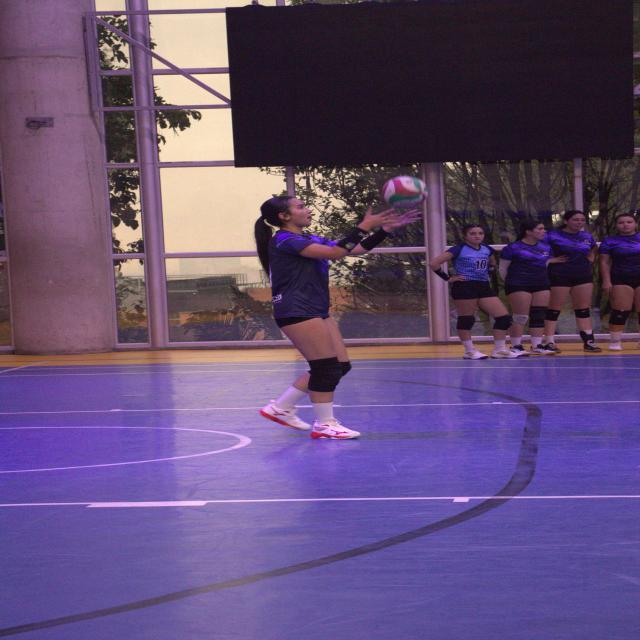volleyball: (385, 177, 430, 209)
